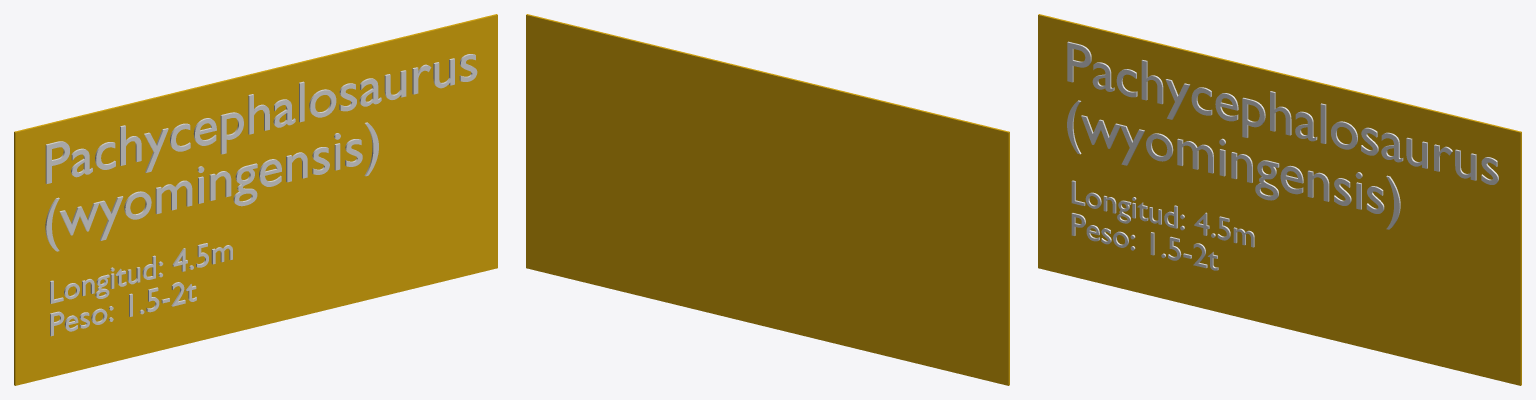
File: PlacaOroPachy.fbx
The picture shows the model from 3 angles, left to right: view 1: azimuth 30°, elevation 25°; view 2: azimuth 150°, elevation 25°; view 3: azimuth 330°, elevation 25°; orthographic projection.
Parts seen in each view (by area): view 1: Cube, Text.002, Text.003; view 2: Cube; view 3: Cube, Text.002, Text.003.
Part boxes in pixels (box(x1,y1,x2,y2)): Cube: box(14, 14, 497, 385); Text.002: box(45, 54, 477, 251); Text.003: box(50, 243, 232, 336); Cube: box(526, 14, 1009, 385); Cube: box(1038, 14, 1521, 385); Text.002: box(1067, 41, 1498, 229); Text.003: box(1071, 180, 1254, 270).
Size of the model in its own units: 1.31 by 0.6577 by 0.011.
